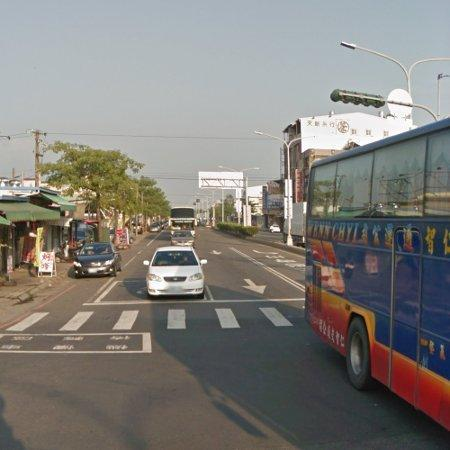crosswalks: (4, 301, 308, 336)
